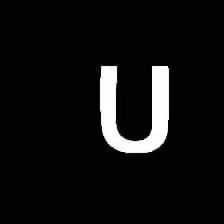LTR_U: (90, 53, 173, 157)
